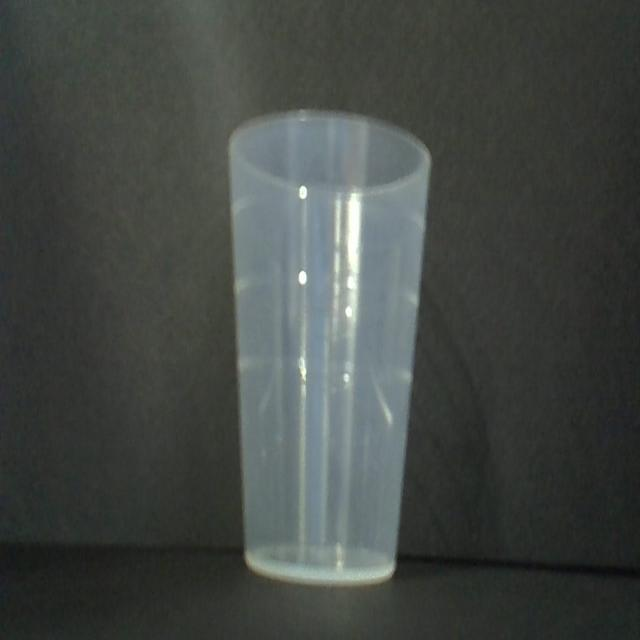cup: (228, 111, 430, 585)
